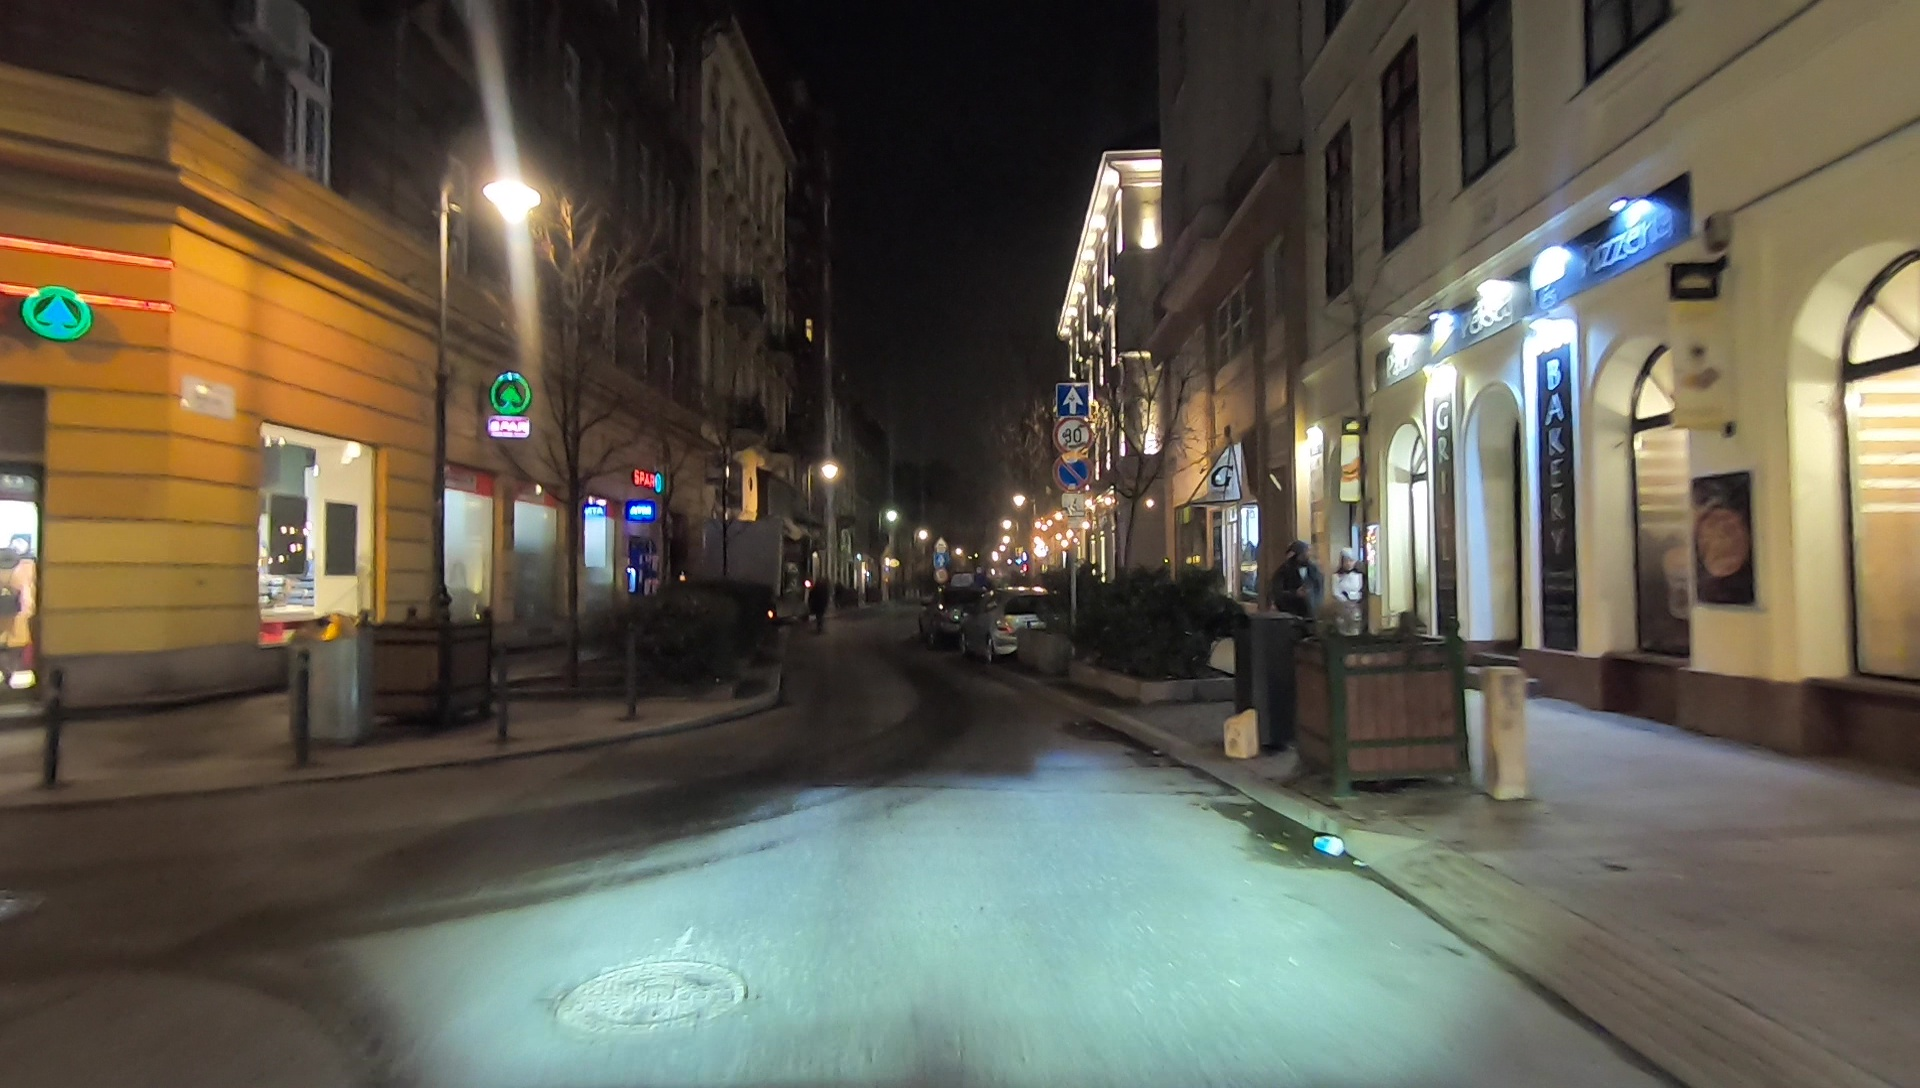person: (1282, 543, 1323, 661), (1338, 547, 1367, 647), (808, 573, 836, 637)
